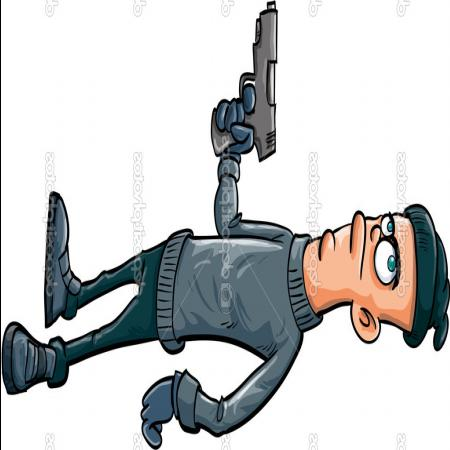Pistol: (208, 0, 281, 168)
